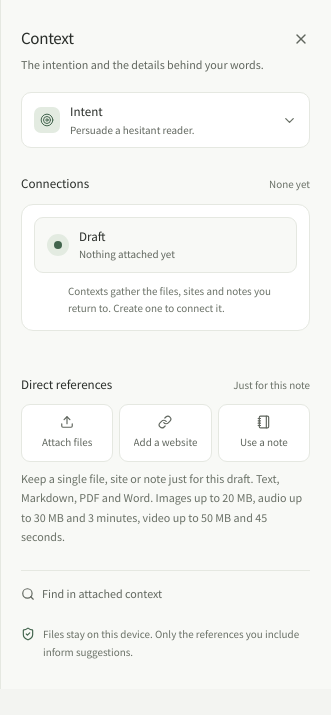
Scenario: intent and direct references › collapses intent to a one-line summary once an objective exists
The image size is (331, 715).
Click the button "Intent Persuade a hesitant reader." at point(166, 120), box [22,93,309,147]
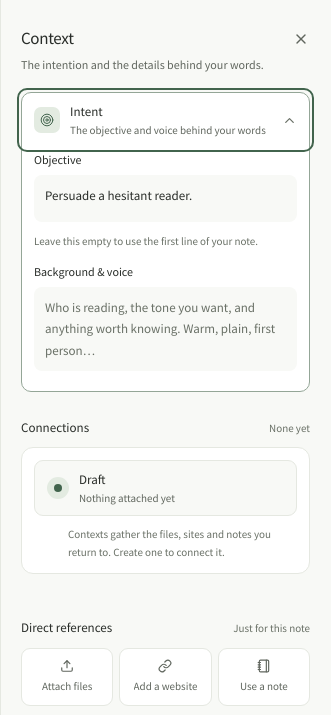
Result: the button "Intent" is expanded at [22,93,309,147]
Result: the text box labelled "Objective" holds "Persuade a hesitant reader." at [34,175,297,222]
